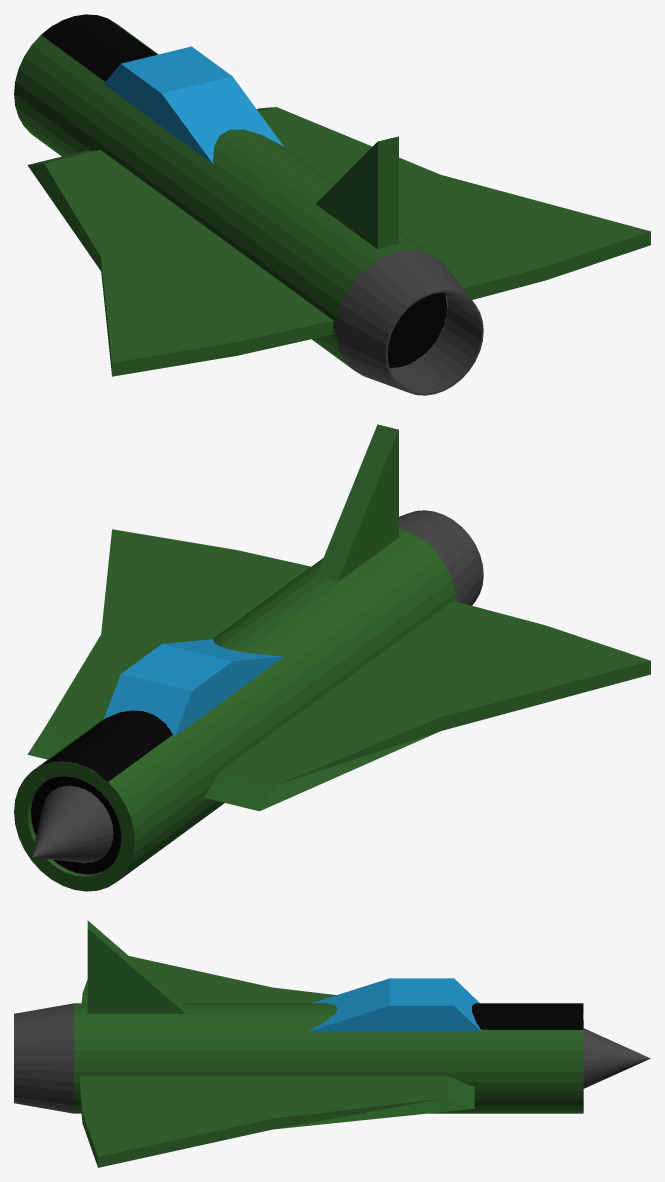
File: player.obj
3 views of the same model, one above another, from view 1: azimuth 30°, elevation 25°; view 2: azimuth 150°, elevation 25°; view 3: azimuth 270°, elevation 25° (orthographic). The views are drawn at different scales.
Visible parts, largest first — view 1: 円柱; view 2: 円柱; view 3: 円柱.
Part boxes in pixels (x1,y1,x2,y2): 円柱: [14, 14, 650, 395]; 円柱: [14, 424, 650, 891]; 円柱: [14, 920, 650, 1167].
Bounding box in the file's own units: 3.31 × 1.37 × 4.28.
Materials: 4 (1 with a texture image).
